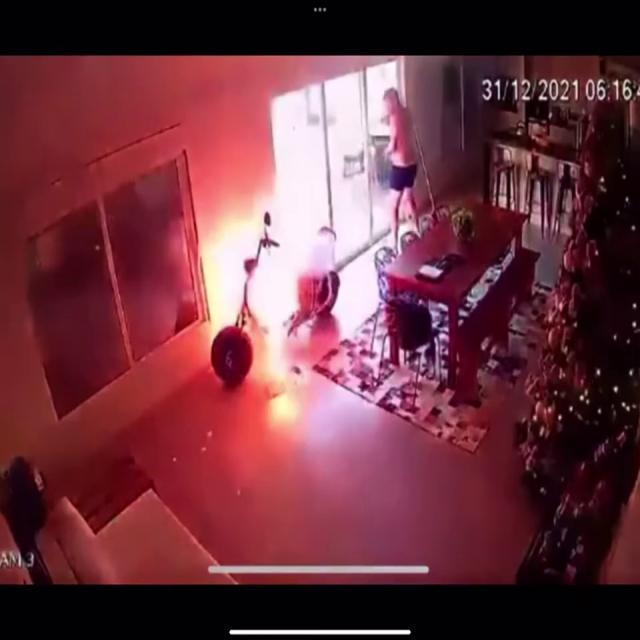Fire: (188, 168, 310, 390)
